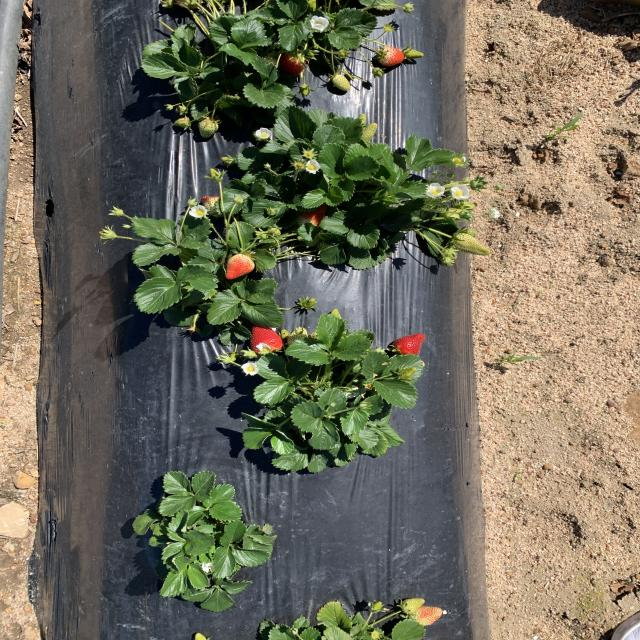unripe: (244, 321, 289, 354), (224, 252, 258, 280), (395, 332, 427, 357), (373, 46, 408, 67), (282, 52, 308, 77)
